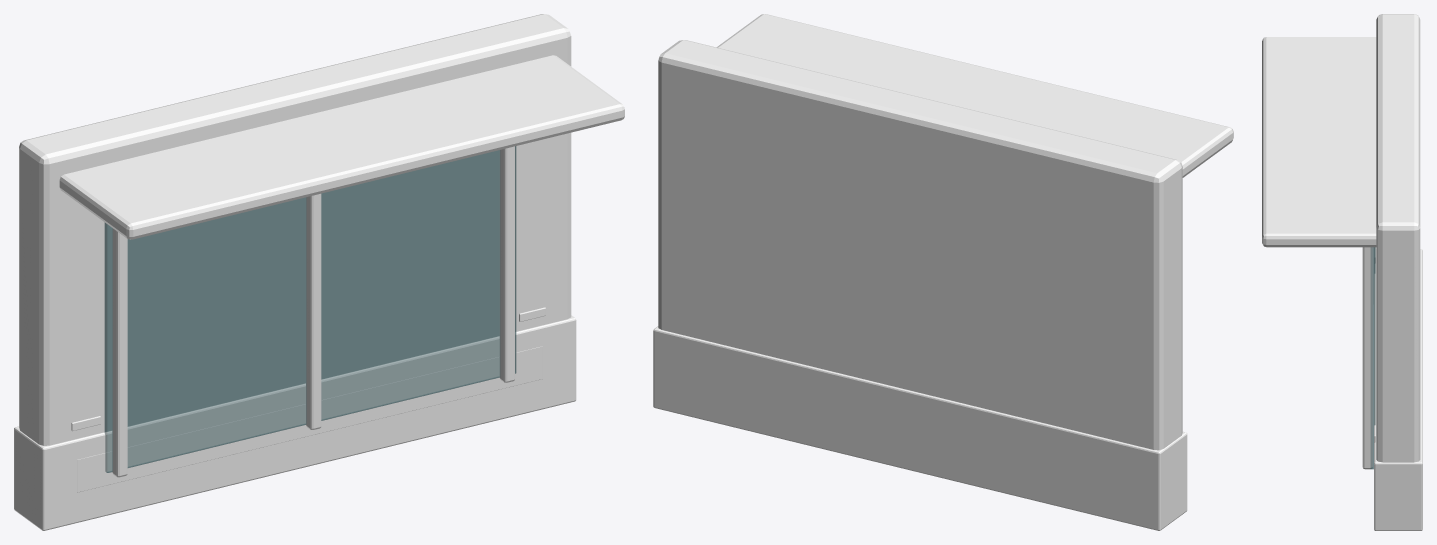
The model's file is SM_FC01_Building_Storefront_Broken_A.glb.
3 renders of one model, left to right at view 1: azimuth 30°, elevation 25°; view 2: azimuth 150°, elevation 25°; view 3: azimuth 270°, elevation 25°, orthographic. The views are drawn at different scales.
Visible parts, largest first — view 1: SM_FC01_Building_Storefront_Broken_A_Frame, SM_FC01_Building_Storefront_Broken_A_Void, SM_FC01_Building_Storefront_Broken_A_Awning, SM_FC01_Building_Storefront_Broken_A_WetBand, SM_FC01_Building_Storefront_Broken_A_AlgaeBand, SM_FC01_Building_Storefront_Broken_A_Mullion_-1.75, SM_FC01_Building_Storefront_Broken_A_Mullion_0, SM_FC01_Building_Storefront_Broken_A_Mullion_1.75; view 2: SM_FC01_Building_Storefront_Broken_A_Frame, SM_FC01_Building_Storefront_Broken_A_WetBand, SM_FC01_Building_Storefront_Broken_A_Awning; view 3: SM_FC01_Building_Storefront_Broken_A_Awning, SM_FC01_Building_Storefront_Broken_A_Frame, SM_FC01_Building_Storefront_Broken_A_WetBand, SM_FC01_Building_Storefront_Broken_A_Mullion_1.75, SM_FC01_Building_Storefront_Broken_A_Void.
Boxes of the visible parts, x1,y1,x2,y2 form: SM_FC01_Building_Storefront_Broken_A_Frame: (19, 14, 571, 445); SM_FC01_Building_Storefront_Broken_A_Void: (104, 146, 516, 472); SM_FC01_Building_Storefront_Broken_A_Awning: (59, 55, 624, 239); SM_FC01_Building_Storefront_Broken_A_WetBand: (14, 315, 576, 530); SM_FC01_Building_Storefront_Broken_A_AlgaeBand: (77, 346, 542, 492); SM_FC01_Building_Storefront_Broken_A_Mullion_-1.75: (112, 228, 127, 477); SM_FC01_Building_Storefront_Broken_A_Mullion_0: (306, 193, 321, 429); SM_FC01_Building_Storefront_Broken_A_Mullion_1.75: (499, 146, 514, 382); SM_FC01_Building_Storefront_Broken_A_Frame: (658, 40, 1182, 450); SM_FC01_Building_Storefront_Broken_A_WetBand: (653, 326, 1187, 530); SM_FC01_Building_Storefront_Broken_A_Awning: (716, 14, 1233, 177); SM_FC01_Building_Storefront_Broken_A_Awning: (1262, 37, 1376, 247); SM_FC01_Building_Storefront_Broken_A_Frame: (1376, 14, 1420, 462); SM_FC01_Building_Storefront_Broken_A_WetBand: (1374, 249, 1422, 530); SM_FC01_Building_Storefront_Broken_A_Mullion_1.75: (1362, 247, 1372, 469); SM_FC01_Building_Storefront_Broken_A_Void: (1370, 247, 1375, 469).
Size of the model in its own units: 4.82 by 3.21 by 1.53.
